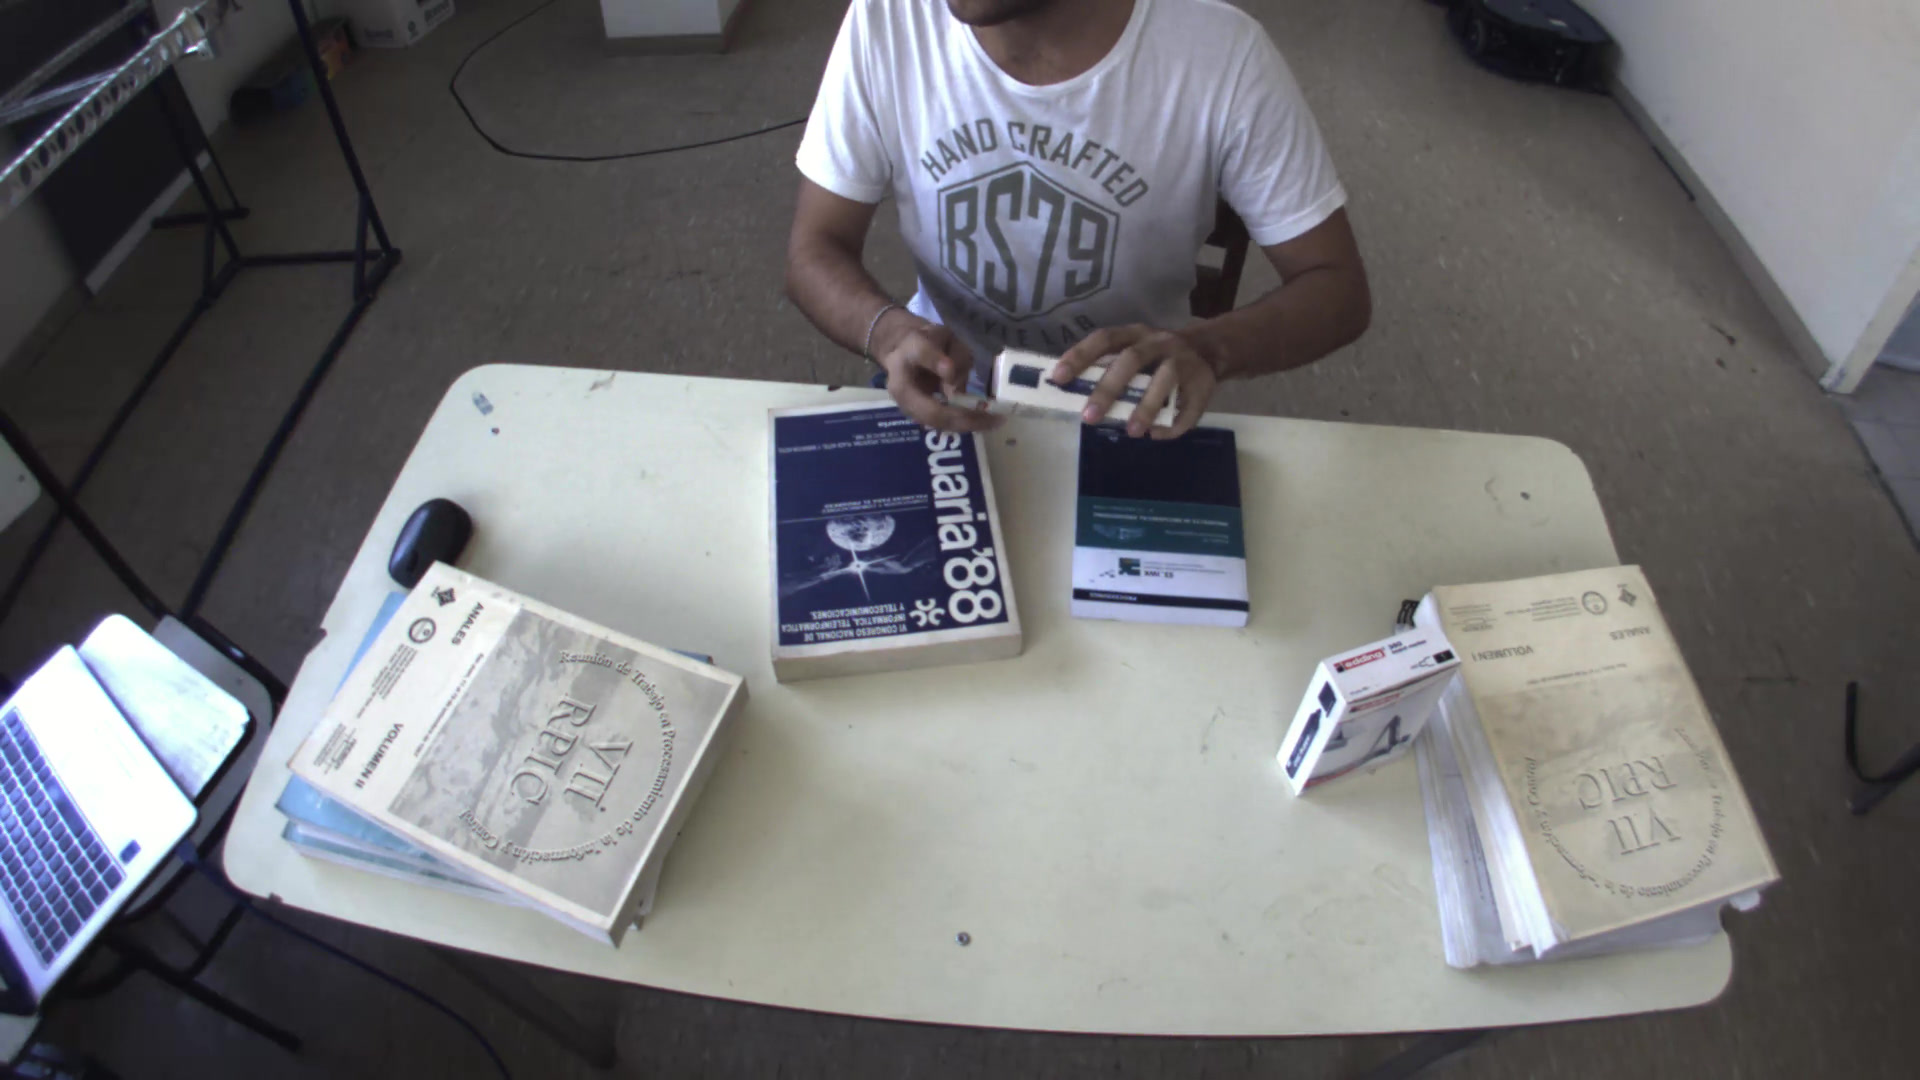hand: (1044, 302, 1240, 443), (869, 314, 996, 444)
